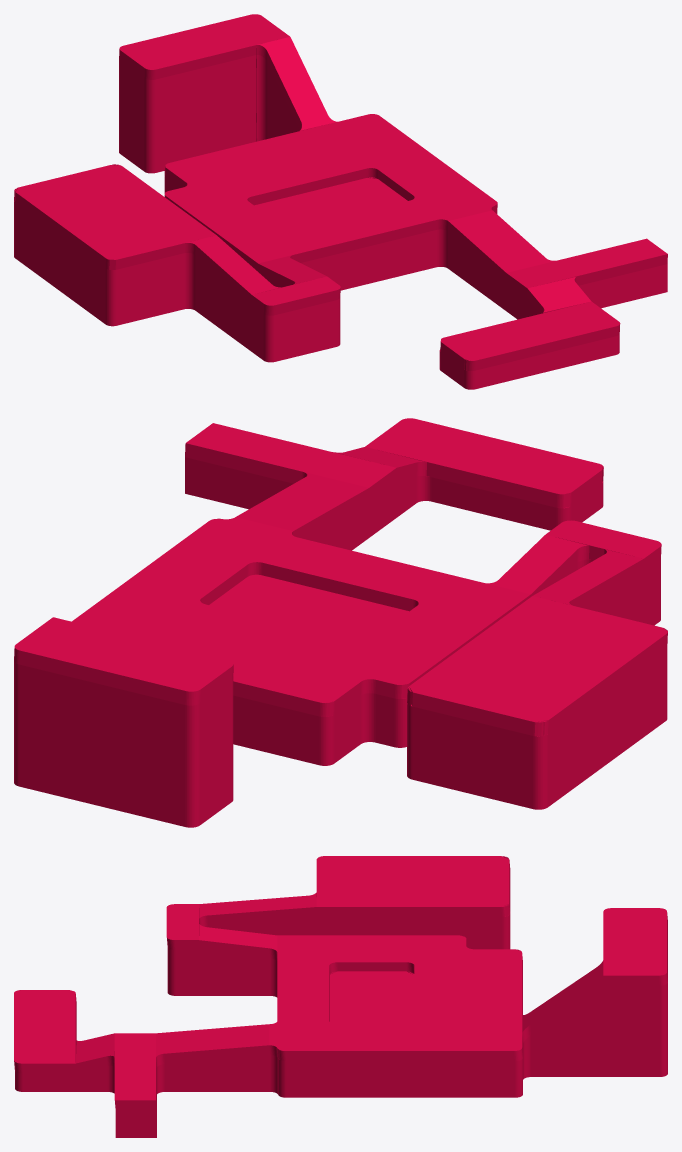
The model's file is CuevaB14.fbx.
The picture shows the model from 3 angles, top to bottom: view 1: azimuth 30°, elevation 25°; view 2: azimuth 150°, elevation 25°; view 3: azimuth 270°, elevation 25°; orthographic projection. The views are drawn at different scales.
Parts seen in each view (by area): view 1: Cube.001; view 2: Cube.001; view 3: Cube.001.
Boxes of the visible parts, x1,y1,x2,y2 form: Cube.001: (14, 14, 667, 389); Cube.001: (14, 418, 667, 827); Cube.001: (14, 856, 667, 1137).
Bounding box in the file's own units: 12.73 × 16.22 × 2.78.
